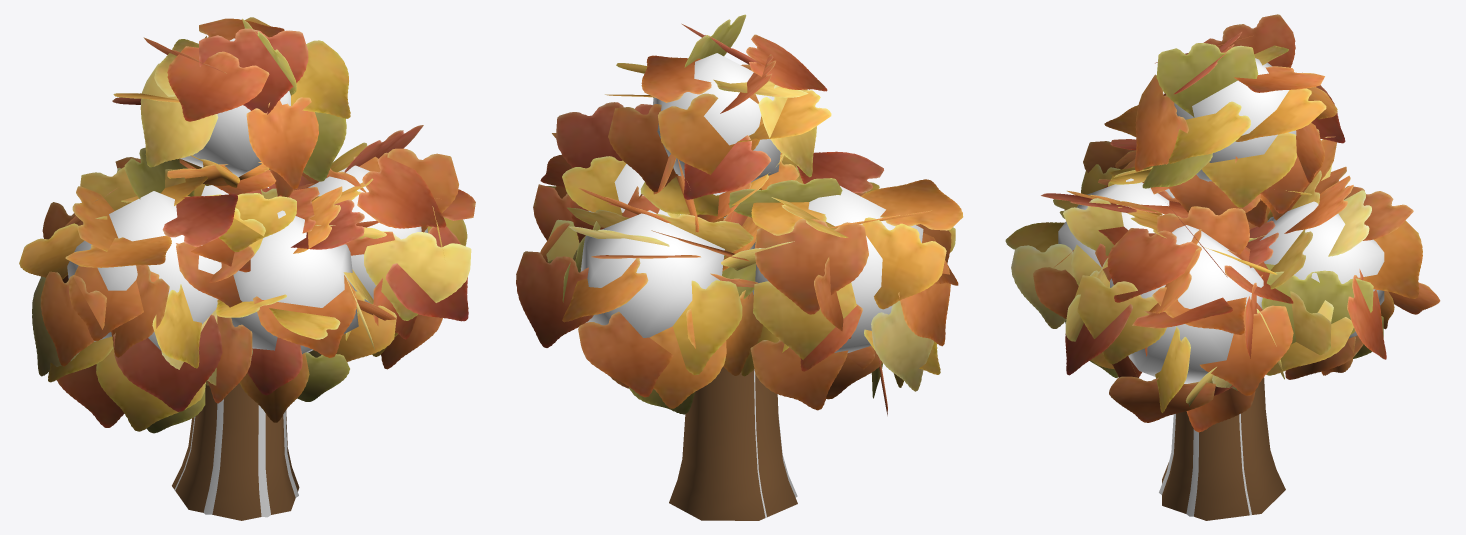
The model's file is tree-round-autumn.lod1.glb.
The picture shows the model from 3 angles, left to right: view 1: azimuth 30°, elevation 25°; view 2: azimuth 150°, elevation 25°; view 3: azimuth 270°, elevation 25°; orthographic projection.
Visible parts, largest first — view 1: Crown, Hull, Trunk, Stem; view 2: Crown, Hull, Trunk; view 3: Crown, Hull, Trunk, Stem.
Boxes of the visible parts, x1=… form: Crown: x1=19, y1=17, x2=475, y2=433; Hull: x1=67, y1=38, x2=427, y2=354; Trunk: x1=172, y1=383, x2=299, y2=520; Stem: x1=174, y1=399, x2=298, y2=517; Crown: x1=516, y1=14, x2=963, y2=415; Hull: x1=580, y1=53, x2=923, y2=352; Trunk: x1=669, y1=366, x2=797, y2=520; Crown: x1=1005, y1=14, x2=1440, y2=432; Hull: x1=1058, y1=58, x2=1384, y2=383; Trunk: x1=1162, y1=377, x2=1285, y2=520; Stem: x1=1159, y1=413, x2=1251, y2=516.
Bounding box in the file's own units: 2.84 × 2.92 × 2.57.
4 materials, 1 textured.
